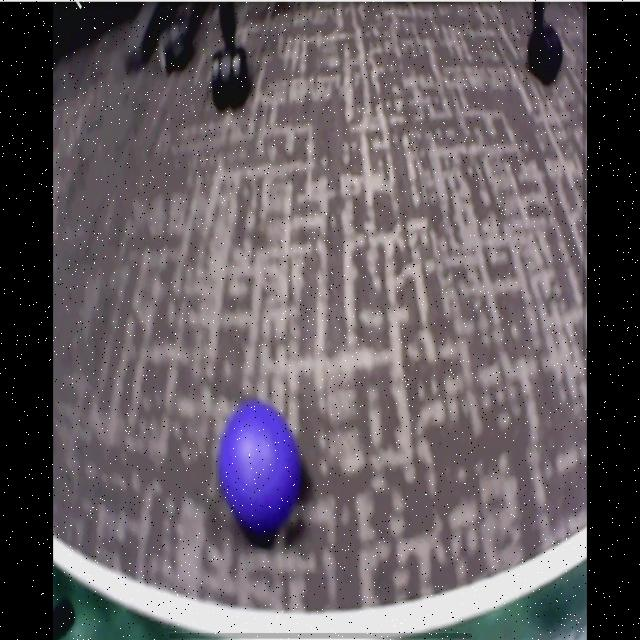ball: (217, 402, 302, 530)
